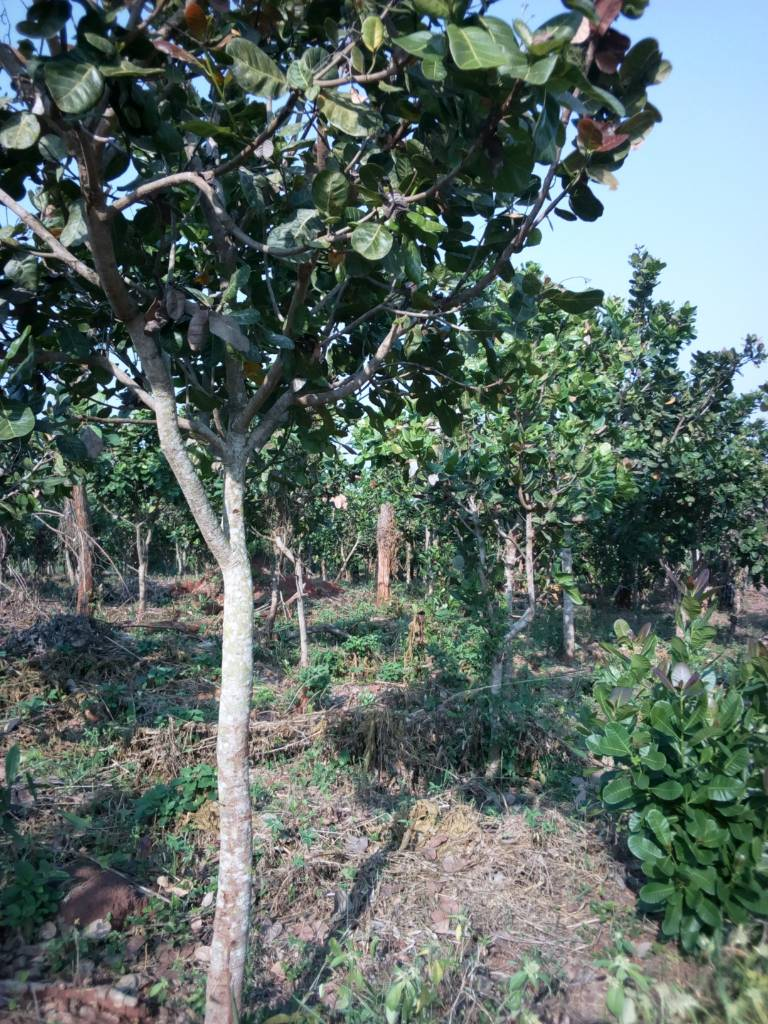Helopeltis anacardii: (230, 36, 299, 100), (44, 55, 107, 111), (313, 174, 350, 219)
